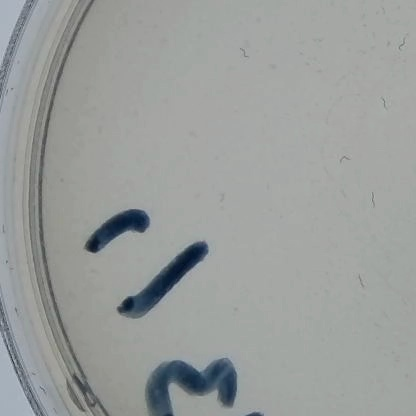worm: (392, 33, 409, 54), (354, 271, 370, 292), (235, 43, 253, 60), (376, 93, 392, 112), (368, 190, 382, 209), (150, 168, 164, 187), (215, 190, 231, 206), (335, 153, 353, 166)
